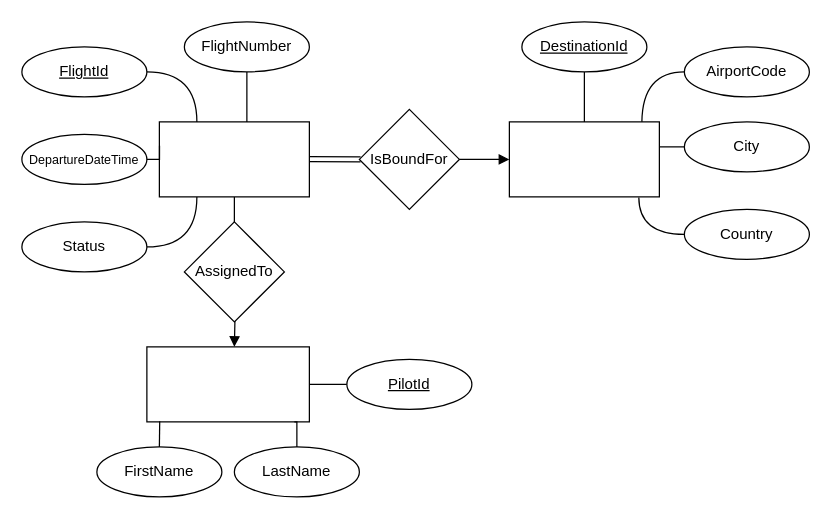
Image size: 831x519. Some labels were removed from this diagram. Each missing label, with the box of its shape:
Destination: (508, 121, 659, 197)
Flight: (158, 121, 309, 197)
Pilot: (146, 346, 309, 422)
